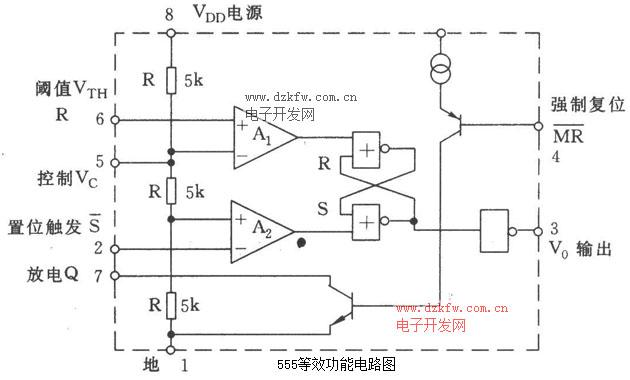bistable flip-flop: (338, 129, 418, 241)
comparator1: (233, 105, 297, 172), (231, 199, 294, 265)
discharge circuit: (329, 282, 355, 329)
output circuit: (481, 209, 509, 252)
reset circuit: (437, 104, 466, 147)
resistance: (166, 179, 176, 205), (167, 67, 175, 93), (168, 292, 176, 318)
